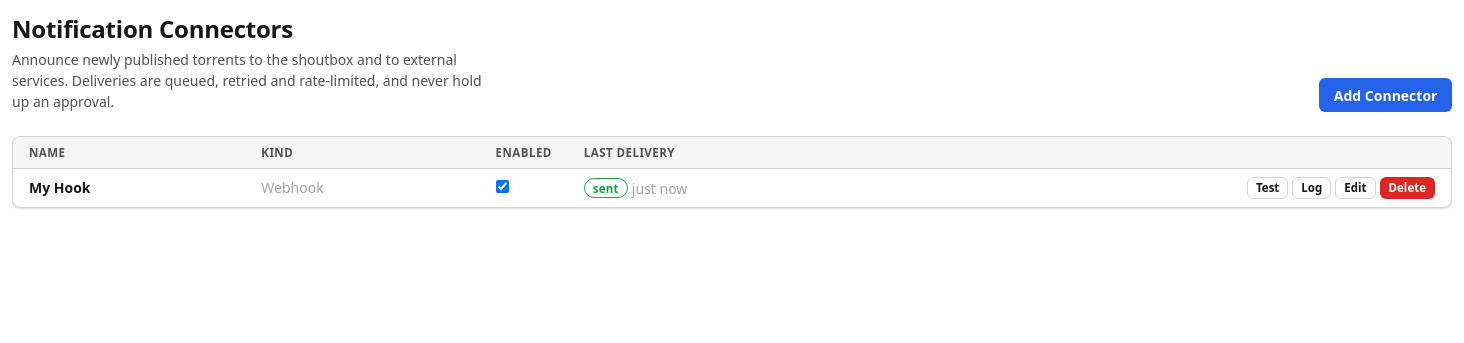
Test case: AdminConnectorsPage › the delivery log panel renders status, attempts and errors
Step 1. Click the button "Log" → (1312, 188), box [1292, 177, 1331, 199]
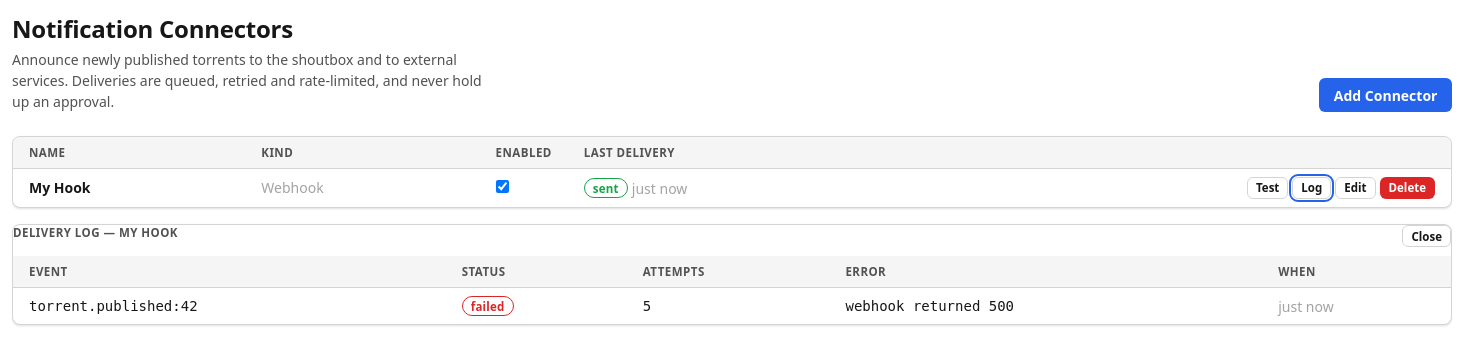
Expected: the heading "Delivery log — My Hook" is shown, [13, 225, 178, 240]
Expected: the text "torrent.published:42" is shown, [13, 287, 446, 324]
Expected: the text "failed" is shown, [462, 296, 514, 316]
